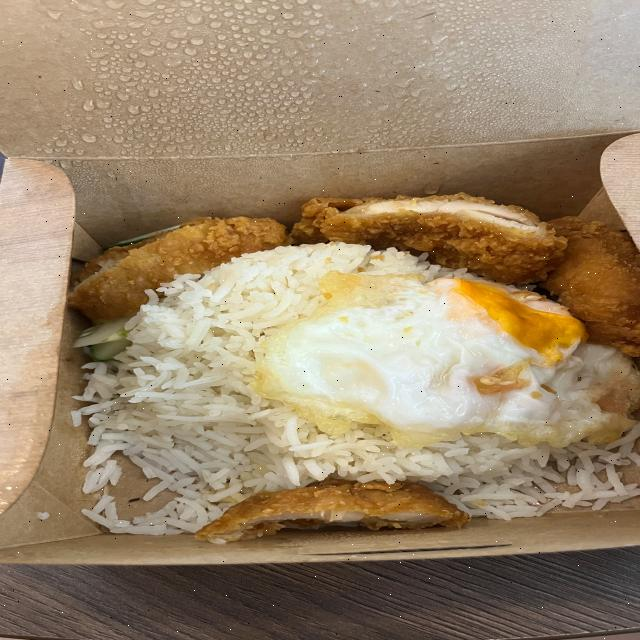Chicken: (69, 193, 640, 357), (196, 479, 469, 540)
Egg: (252, 271, 640, 447)
Rice: (72, 269, 640, 534), (80, 242, 473, 535), (423, 426, 640, 520)
